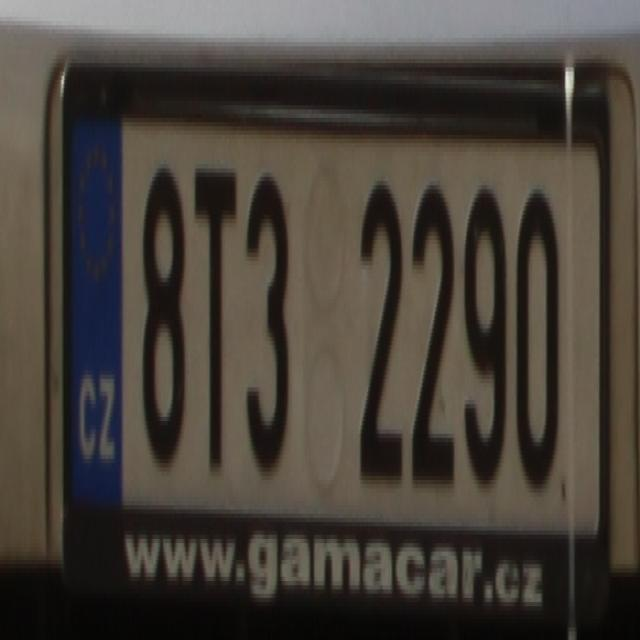0: (513, 172, 561, 492)
2: (354, 152, 403, 492), (410, 177, 455, 488)
3: (242, 168, 292, 468)
8: (138, 152, 185, 472)
9: (462, 173, 506, 480)
T: (193, 152, 238, 484)
